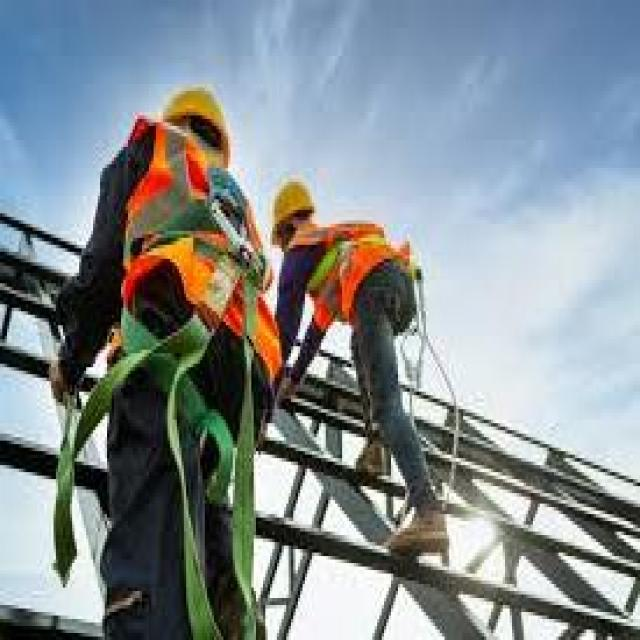Reflective-Jacket: (88, 192, 284, 388), (286, 210, 433, 339)
Safety-Helmet: (162, 67, 242, 166), (263, 164, 323, 245)
